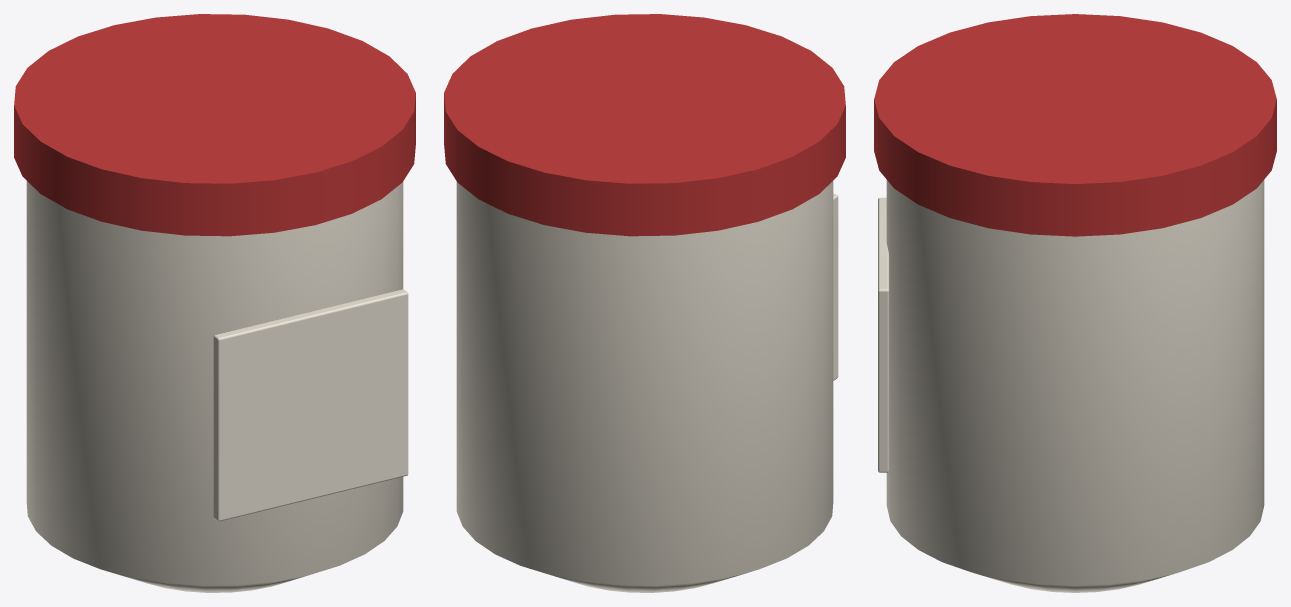
The model's file is wp-pot-de-creme-fraiche.glb.
3 views of the same model, side by side, from view 1: azimuth 30°, elevation 25°; view 2: azimuth 150°, elevation 25°; view 3: azimuth 270°, elevation 25° (orthographic).
Parts seen in each view (by area): view 1: wp-pot-de-creme-fraiche; view 2: wp-pot-de-creme-fraiche; view 3: wp-pot-de-creme-fraiche.
Boxes of the visible parts, box(x1,y1,x2,y2) form: wp-pot-de-creme-fraiche: box(14, 14, 415, 592); wp-pot-de-creme-fraiche: box(444, 14, 845, 592); wp-pot-de-creme-fraiche: box(874, 14, 1276, 592).
Bounding box in the file's own units: 0.09 × 0.11 × 0.09.
